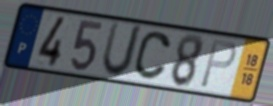4: (35, 14, 66, 70)
5: (67, 19, 107, 73)
8: (169, 31, 205, 90)
C: (131, 29, 174, 82)
P: (197, 38, 239, 91)
U: (99, 20, 145, 81)
